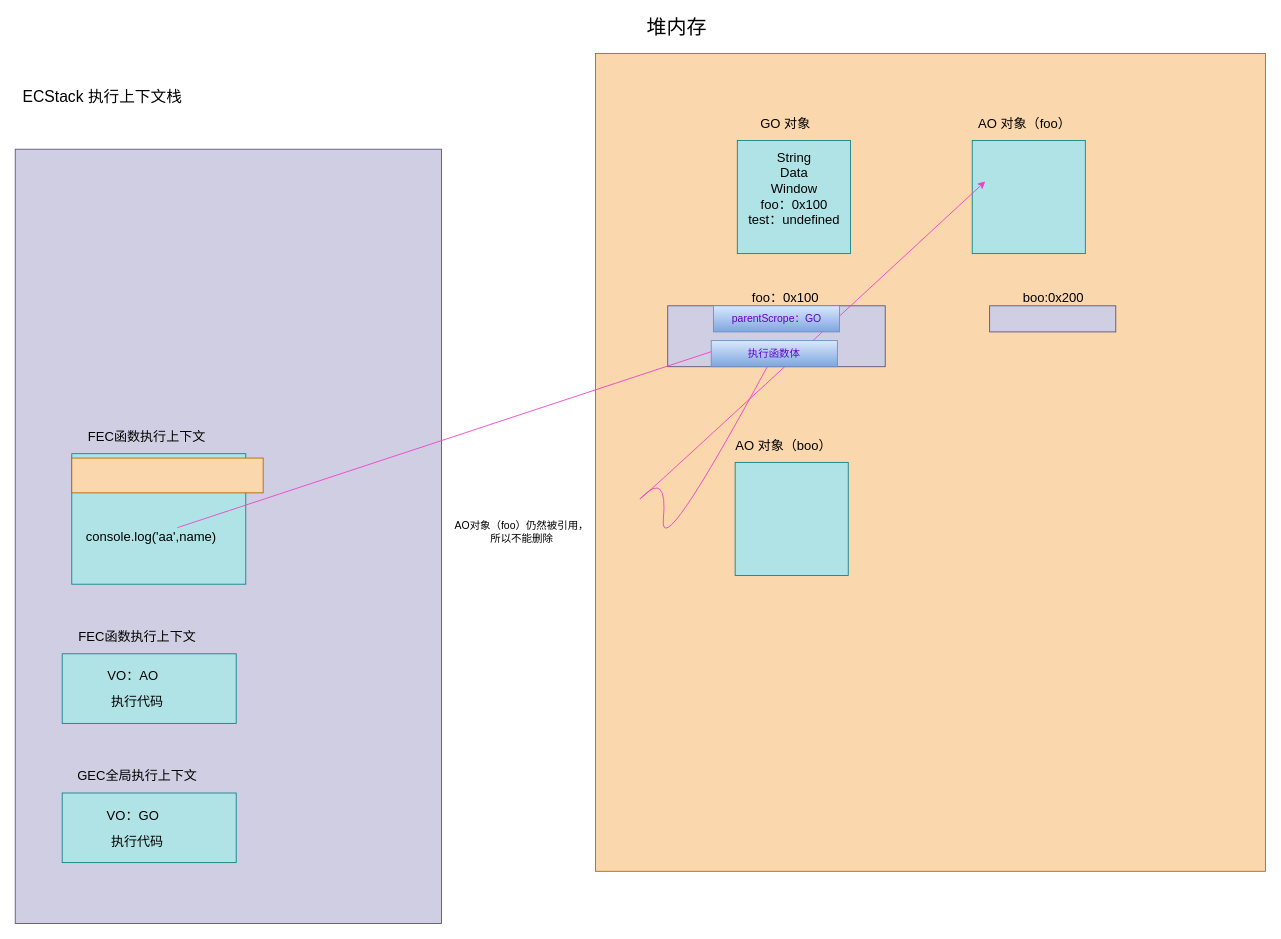
The diagram is 1281 pixels wide and 939 high, and some of its shapes have lost their labels. The shapes that lost their labels are listed below. From the top down, each one's box as (x1, y1, x2, y2) in pixels, then its label:
(971, 140, 1085, 254): name：张三 boo：0x200
(71, 457, 263, 493): VO：AO scopechain：VO+parentScope
